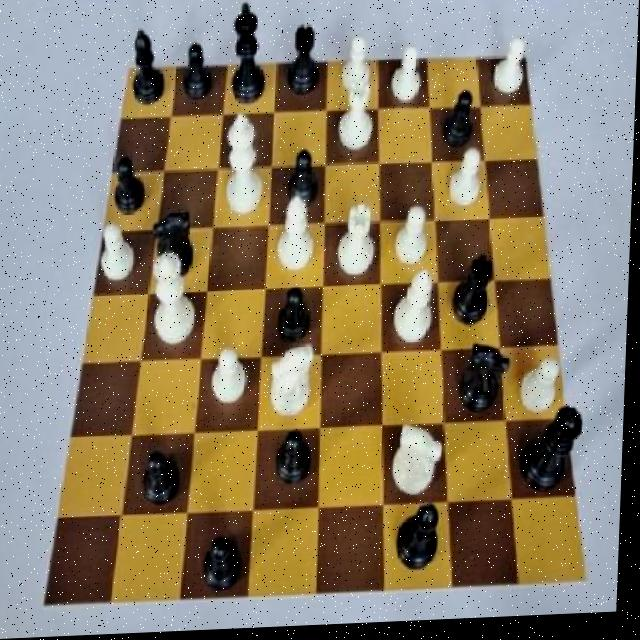bishop: (391, 499, 456, 580), (124, 24, 171, 113)
black-bishop: (226, 0, 274, 114)
black-king: (455, 337, 520, 429), (150, 204, 200, 291)
black-knight: (198, 521, 255, 598), (271, 276, 321, 360), (268, 422, 320, 497), (106, 147, 154, 226), (437, 86, 485, 163), (143, 439, 187, 511), (173, 43, 220, 110), (283, 139, 322, 211)
black-pawn: (519, 396, 598, 508)
black-queen: (447, 250, 503, 338), (281, 19, 328, 109)
black-rook: (391, 264, 446, 354), (272, 192, 322, 281)
white-bishop: (223, 106, 269, 229)
white-king: (389, 422, 450, 514), (264, 338, 321, 429)
white-knight: (95, 216, 144, 296), (332, 25, 383, 99), (488, 32, 537, 106), (442, 147, 491, 220), (208, 341, 256, 414), (518, 355, 569, 423), (389, 203, 435, 275), (387, 42, 428, 119)
white-pawn: (149, 250, 202, 365)
white-queen: (330, 195, 388, 292), (327, 74, 382, 159)
